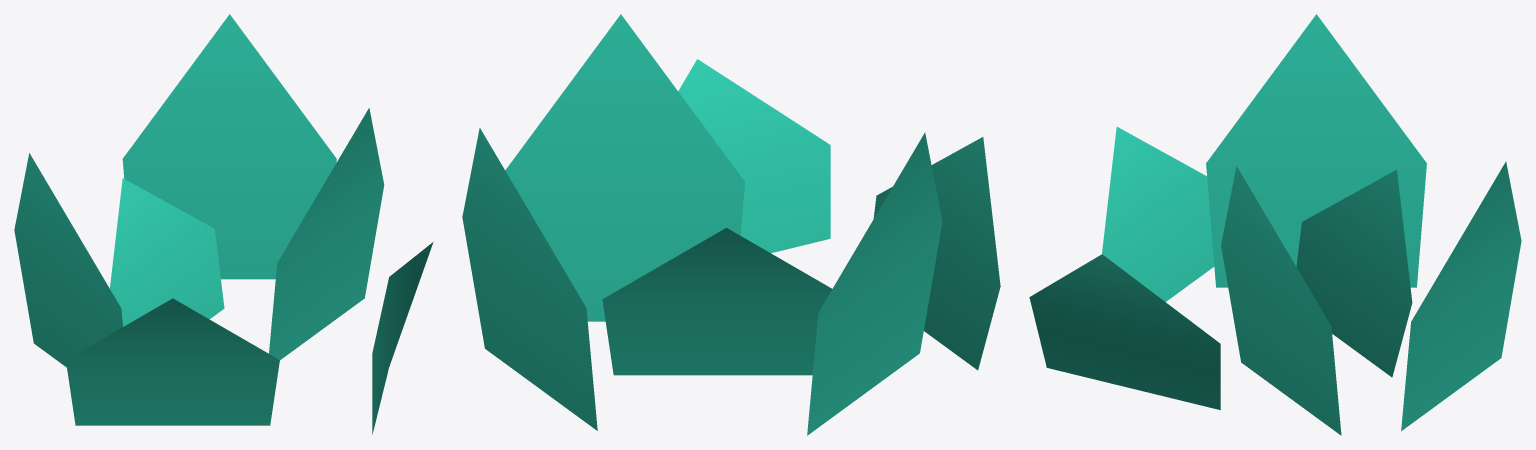
The model's file is Grass Leafs.glb.
3 views of the same model, side by side, from view 1: azimuth 30°, elevation 25°; view 2: azimuth 150°, elevation 25°; view 3: azimuth 270°, elevation 25° (orthographic). The views are drawn at different scales.
Parts seen in each view (by area): view 1: grass_leafs; view 2: grass_leafs; view 3: grass_leafs.
Part boxes in pixels (x1,y1,x2,y2): grass_leafs: (14,14,433,434); grass_leafs: (462,14,1000,435); grass_leafs: (1029,14,1521,435).
Size of the model in its own units: 0.2345 by 0.1425 by 0.2573.
